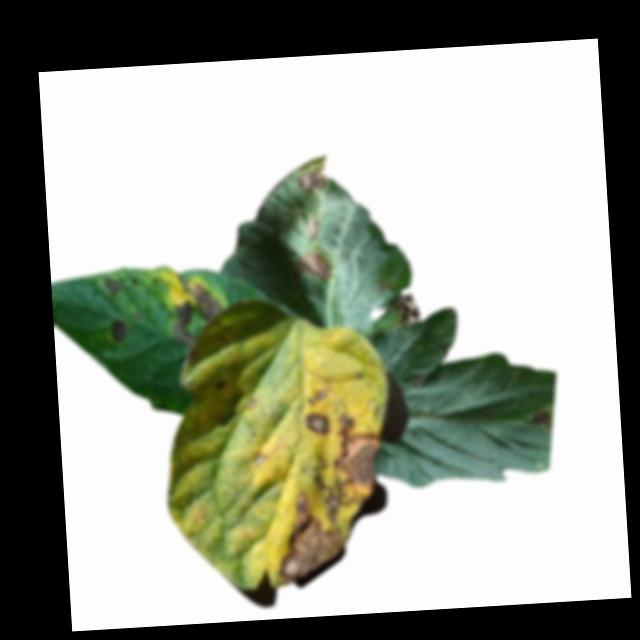Early_blight: (309, 411, 386, 525), (274, 488, 347, 583), (168, 277, 225, 346), (386, 292, 421, 327), (299, 249, 332, 281), (297, 165, 327, 190), (104, 314, 128, 344), (303, 412, 330, 435), (100, 277, 122, 296), (530, 407, 551, 426)
